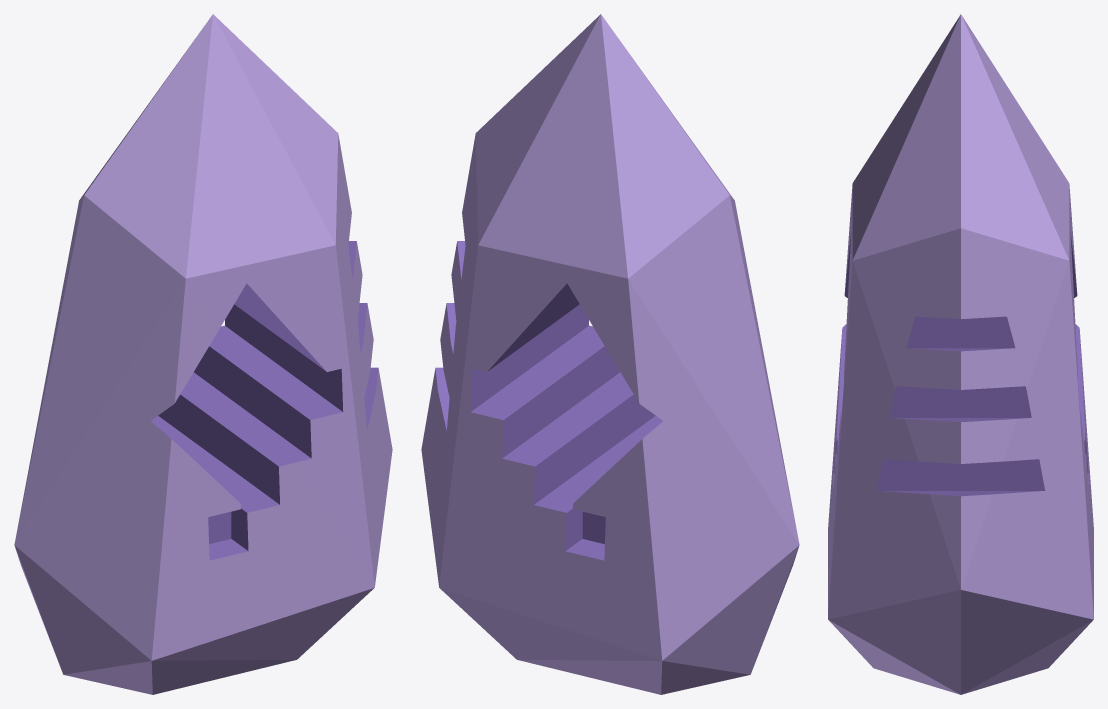
The model's file is Invisibility.fbx.
The picture shows the model from 3 angles, left to right: view 1: azimuth 30°, elevation 25°; view 2: azimuth 150°, elevation 25°; view 3: azimuth 270°, elevation 25°; orthographic projection.
Parts seen in each view (by area): view 1: InvisItem; view 2: InvisItem; view 3: InvisItem.
Part boxes in pixels (x1=…): InvisItem: x1=14, y1=14, x2=392, y2=694; InvisItem: x1=421, y1=14, x2=799, y2=694; InvisItem: x1=828, y1=14, x2=1093, y2=694.
Size of the model in its own units: 63.4 by 100 by 38.
